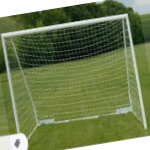goals: (1, 12, 150, 133)
